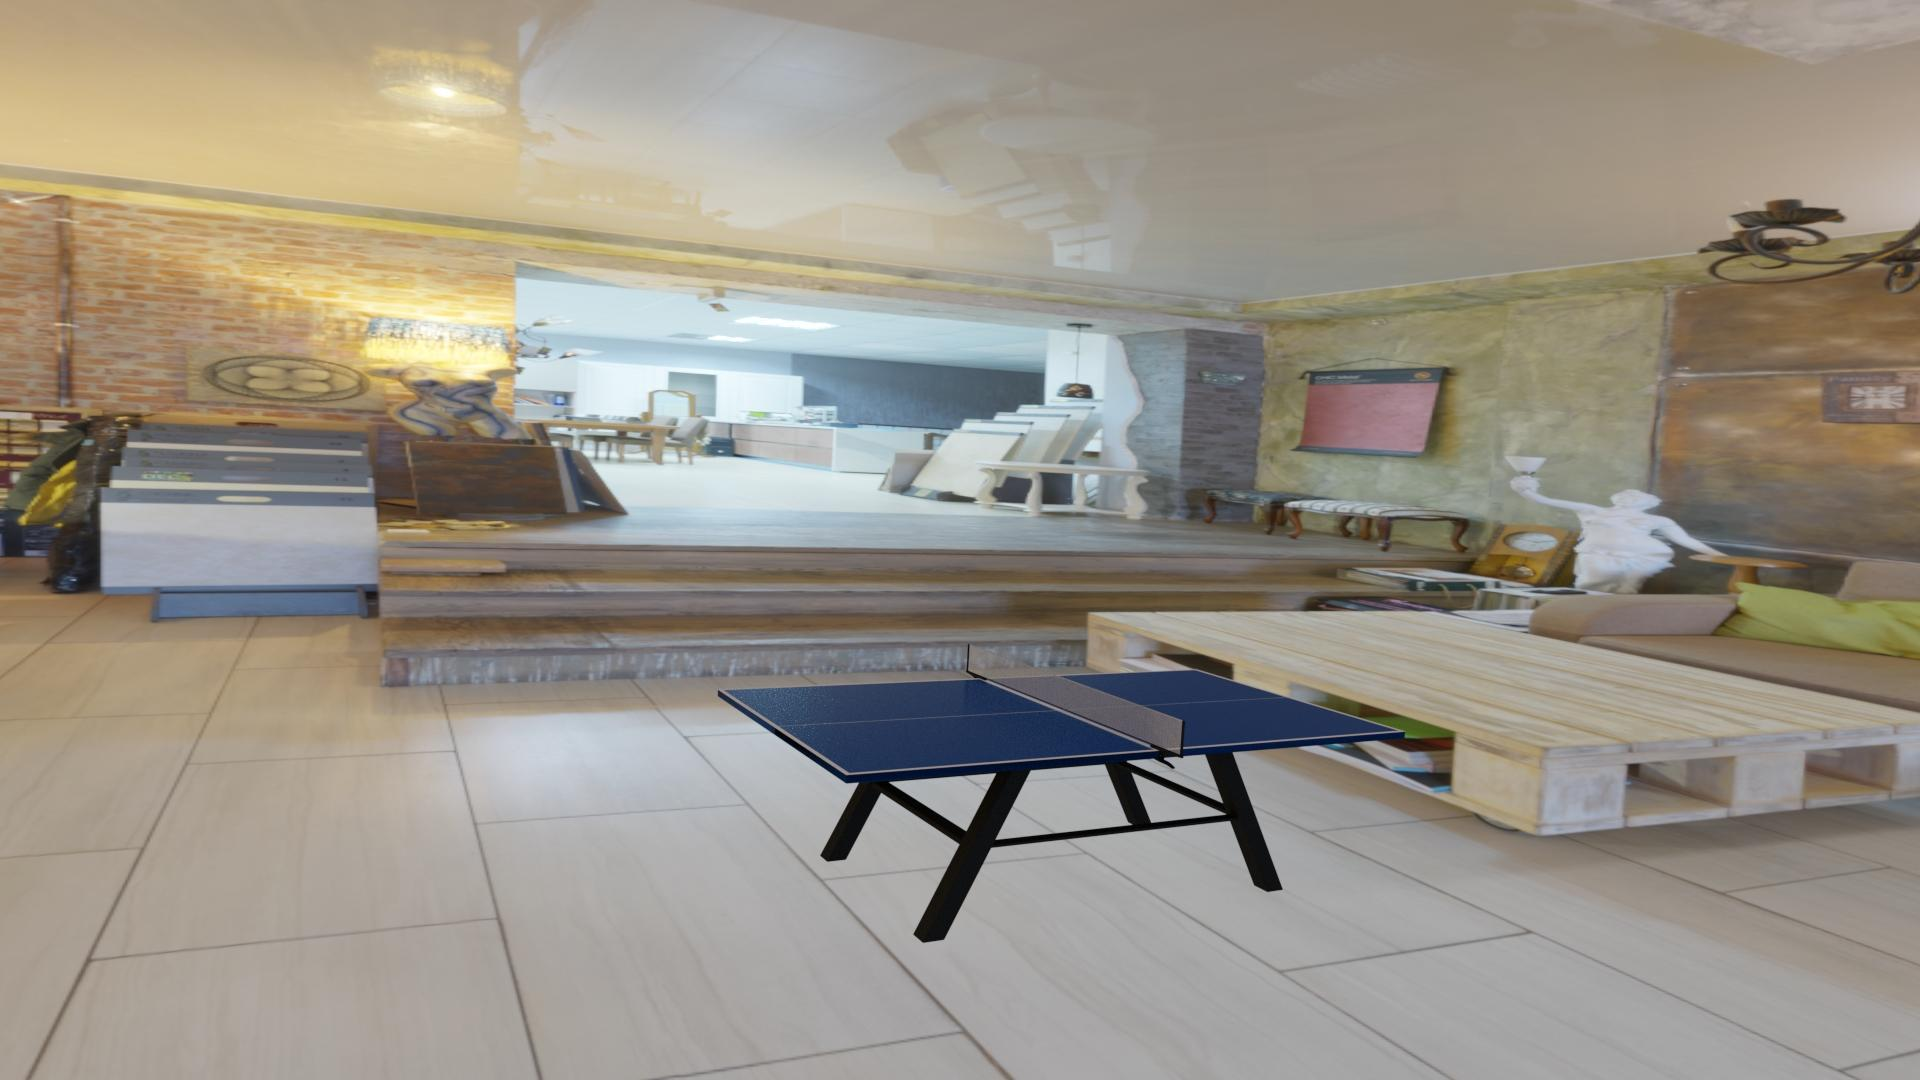table: (723, 670, 1399, 773)
